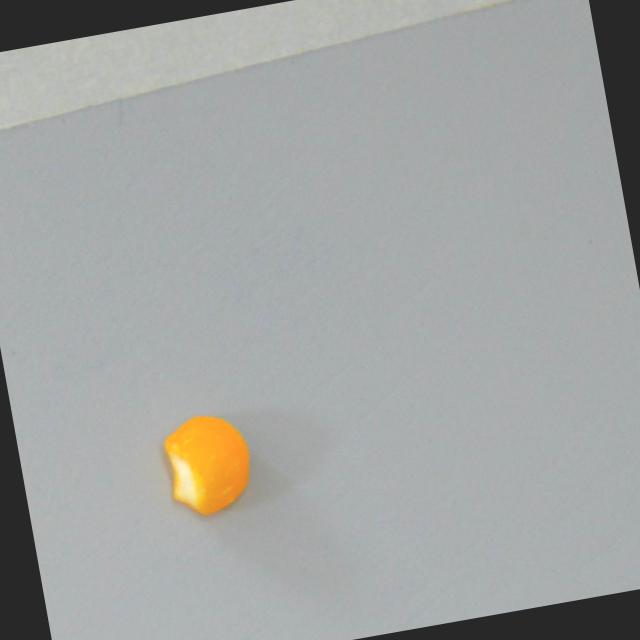no_canjicado: (157, 406, 260, 521)
